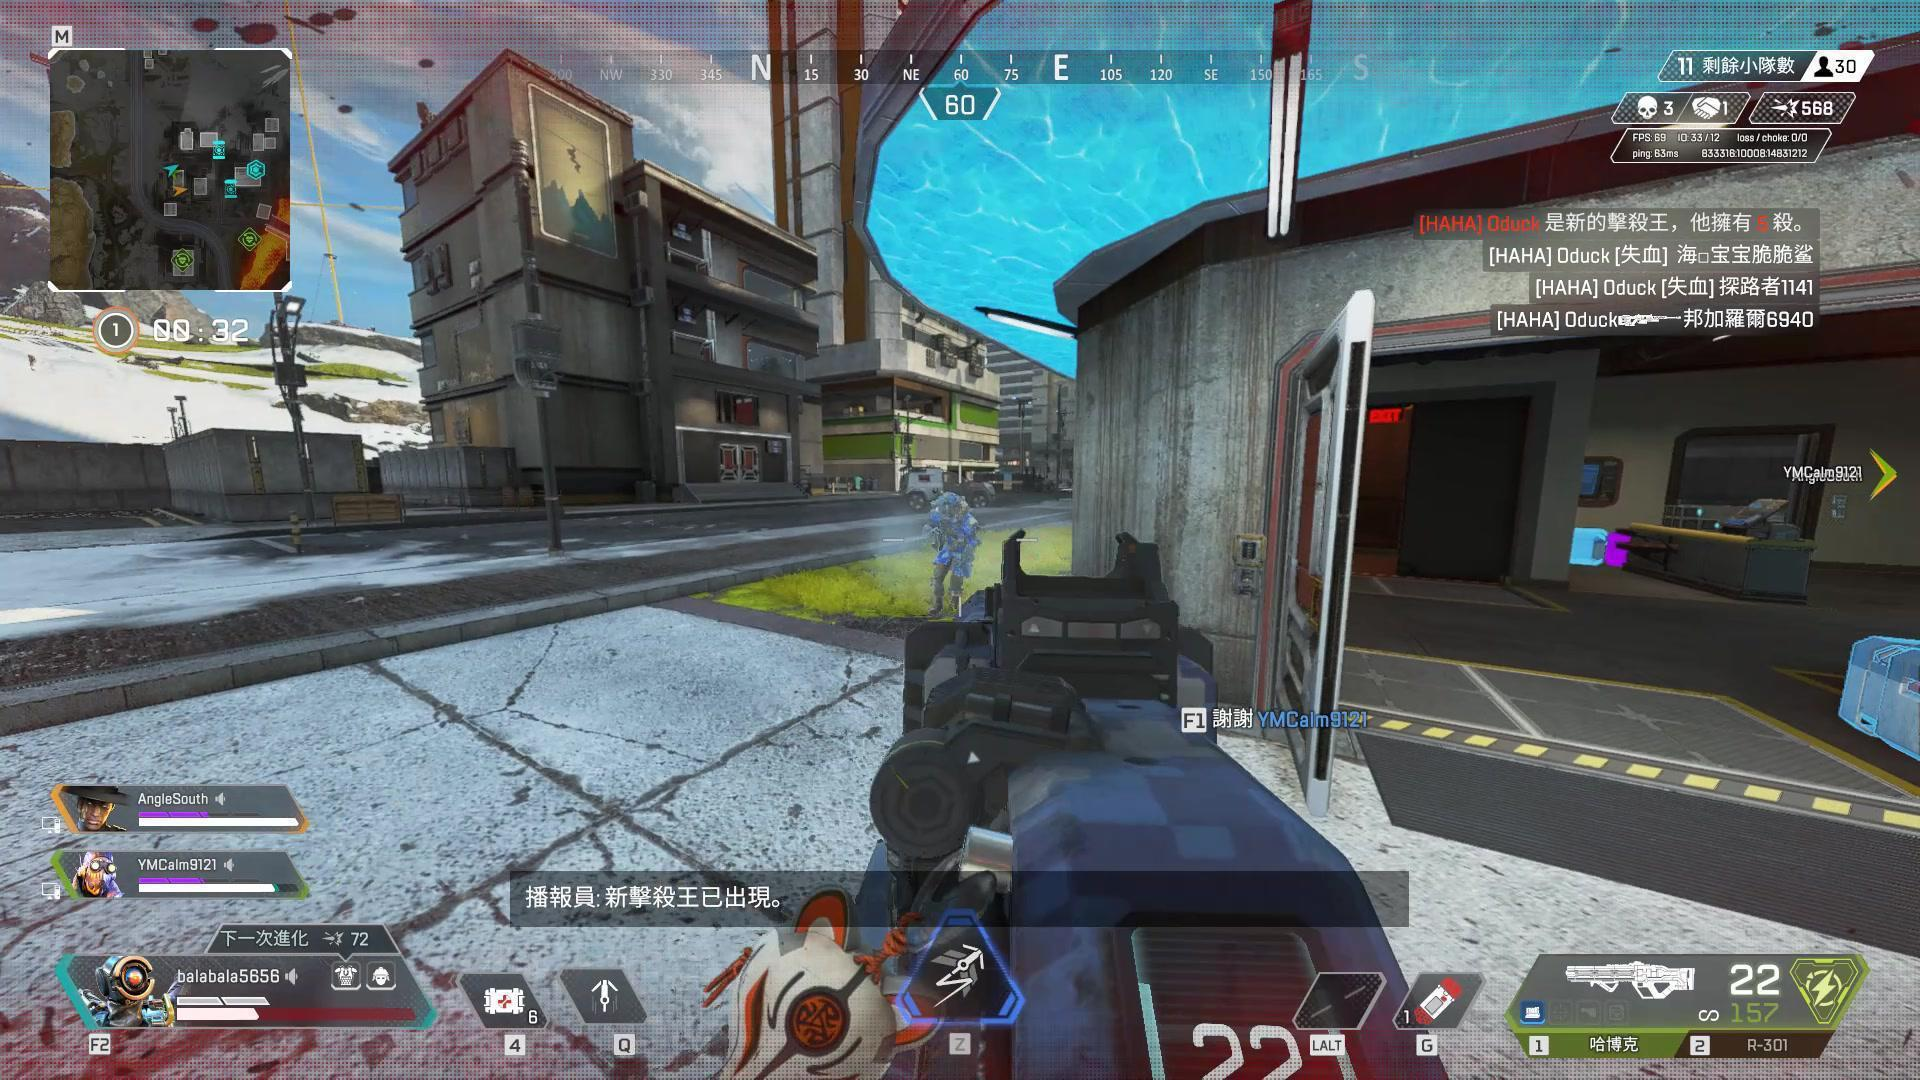avatar: (921, 494, 984, 628)
